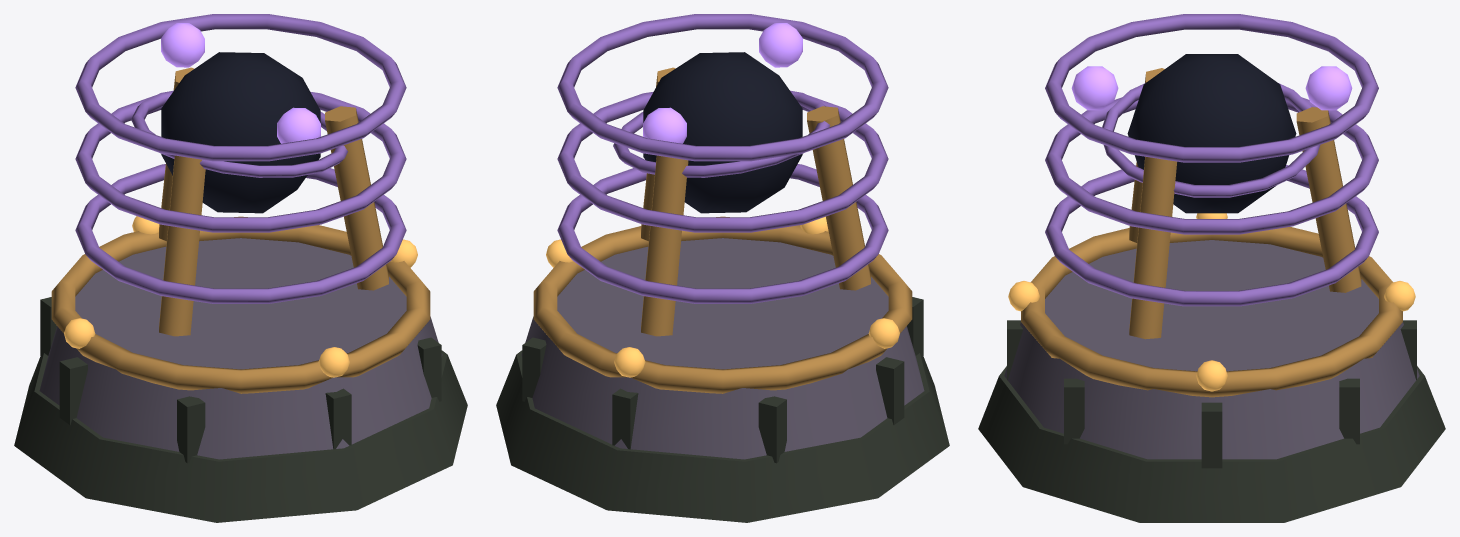
The model's file is tower_gravity_gravityTide_ultimate.glb.
3 views of the same model, side by side, from view 1: azimuth 30°, elevation 25°; view 2: azimuth 150°, elevation 25°; view 3: azimuth 270°, elevation 25° (orthographic).
Visible parts, largest first — view 1: stone_1, foot_0, rim_2, black_hole_15, pulse_22, pulse_20, pulse_21, claw_18, claw_17, accretion_19, satellite_24, mortar_6 (+8 smaller); view 2: stone_1, foot_0, black_hole_15, rim_2, pulse_22, pulse_20, pulse_21, claw_16, claw_18, accretion_19, satellite_23, mortar_8 (+8 smaller); view 3: stone_1, foot_0, black_hole_15, rim_2, pulse_22, pulse_20, pulse_21, claw_17, claw_16, accretion_19, satellite_23, satellite_24 (+9 smaller).
Boxes of the visible parts, left/top/right/bottom form: stone_1: left=39, top=238, right=442, bottom=459; foot_0: left=14, top=350, right=467, bottom=522; rim_2: left=51, top=216, right=430, bottom=393; black_hole_15: left=161, top=52, right=320, bottom=213; pulse_22: left=75, top=14, right=406, bottom=161; pulse_20: left=75, top=164, right=406, bottom=303; pulse_21: left=75, top=91, right=406, bottom=232; claw_18: left=159, top=155, right=205, bottom=336; claw_17: left=325, top=106, right=388, bottom=290; accretion_19: left=131, top=90, right=347, bottom=177; satellite_24: left=161, top=23, right=204, bottom=67; mortar_6: left=177, top=396, right=205, bottom=463; stone_1: left=521, top=238, right=924, bottom=459; foot_0: left=496, top=350, right=949, bottom=522; black_hole_15: left=643, top=52, right=802, bottom=213; rim_2: left=533, top=216, right=912, bottom=393; pulse_22: left=557, top=14, right=888, bottom=161; pulse_20: left=557, top=164, right=888, bottom=303; pulse_21: left=557, top=91, right=888, bottom=232; claw_16: left=641, top=155, right=688, bottom=336; claw_18: left=807, top=106, right=870, bottom=290; accretion_19: left=613, top=90, right=830, bottom=177; satellite_23: left=759, top=23, right=802, bottom=67; mortar_8: left=758, top=396, right=786, bottom=463; stone_1: left=1004, top=240, right=1419, bottom=459; foot_0: left=978, top=366, right=1445, bottom=522; black_hole_15: left=1127, top=54, right=1296, bottom=213; rim_2: left=1021, top=227, right=1402, bottom=397; pulse_22: left=1045, top=14, right=1378, bottom=162; pulse_20: left=1045, top=165, right=1378, bottom=306; pulse_21: left=1045, top=97, right=1378, bottom=234; claw_17: left=1129, top=156, right=1176, bottom=339; claw_16: left=1296, top=107, right=1361, bottom=292; accretion_19: left=1102, top=83, right=1320, bottom=197; satellite_23: left=1071, top=66, right=1118, bottom=110; satellite_24: left=1305, top=66, right=1352, bottom=110.
Size of the model in its own units: 0.5326 by 0.491 by 0.56.
